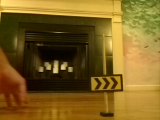right: (89, 75, 123, 91)
